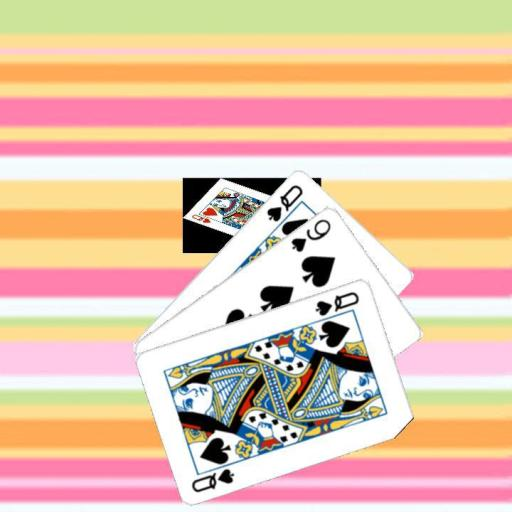9S: (287, 215, 333, 254)
QS: (263, 181, 304, 223), (312, 288, 361, 317), (189, 465, 236, 494)
